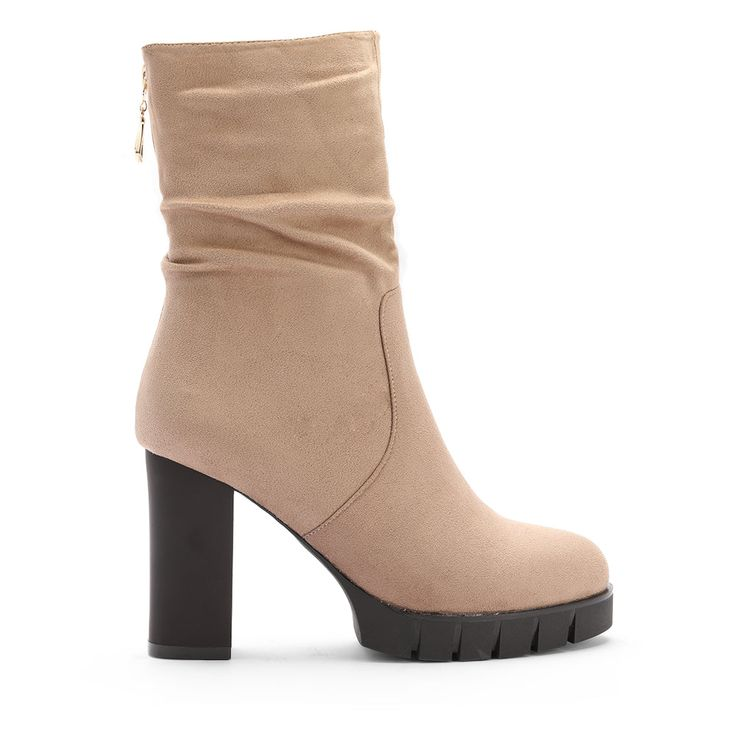gamuza: (135, 29, 611, 616)
